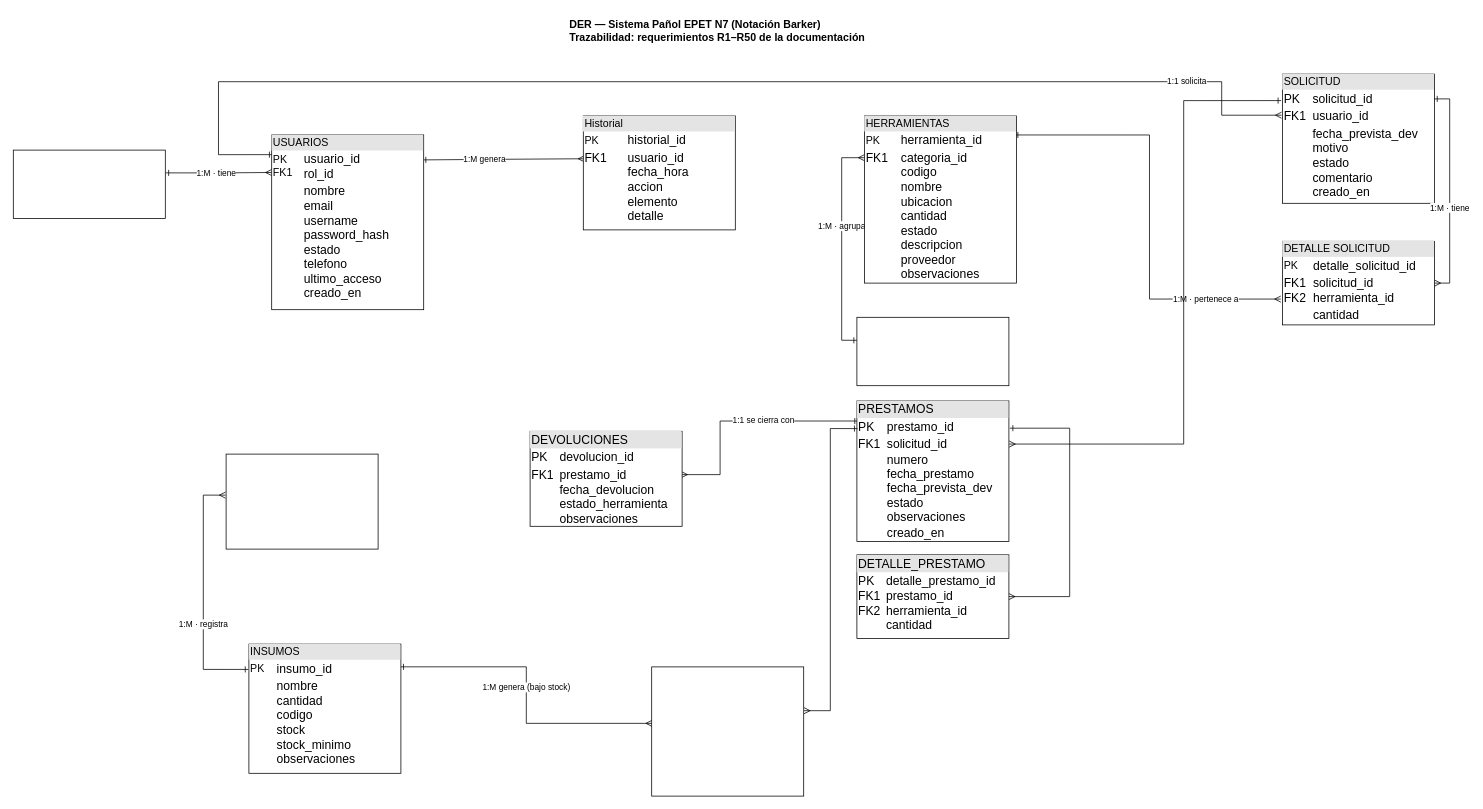
This 1483x809 diagram has some shape labels left out. Here are the shapes that lost their labels. From the top down, the box of each, then its label:
(13, 149, 165, 218): ROLES PK rol_id nombre descripcion
(856, 317, 1009, 386): CATEGORIAS PK categoria_id nombre descripcion
(225, 453, 378, 549): MOVIMIENTOS_INSUMOS PK movimiento_id FK1 insumo_id fecha_hora tipo cantidad
(651, 666, 804, 796): ALERTAS PK alerta_id FK1 FK2 prestamo_id insumo_id tipo mensaje fecha resuelta
